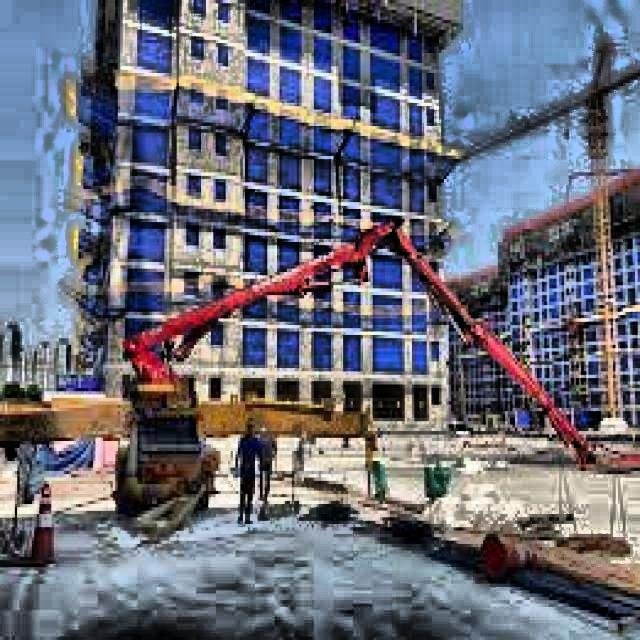bull_dozer/loader/grader: (1, 208, 601, 528), (461, 36, 640, 438), (516, 287, 640, 424)
person: (232, 416, 262, 524), (255, 427, 280, 515)
